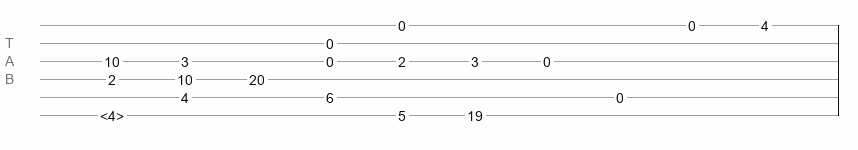0: (326, 54, 334, 64), (326, 36, 334, 46), (398, 18, 406, 28), (543, 54, 551, 64), (616, 90, 624, 100), (688, 18, 696, 28)
10: (104, 54, 120, 64), (177, 72, 193, 82)
19: (467, 108, 483, 118)
2: (108, 72, 116, 82), (398, 54, 406, 64)
20: (249, 72, 265, 82)
3: (181, 54, 189, 64), (471, 54, 479, 64)
4: (181, 90, 189, 100), (761, 18, 769, 28)
5: (398, 108, 406, 118)
6: (326, 90, 334, 100)
harmonic: (100, 108, 124, 118)
